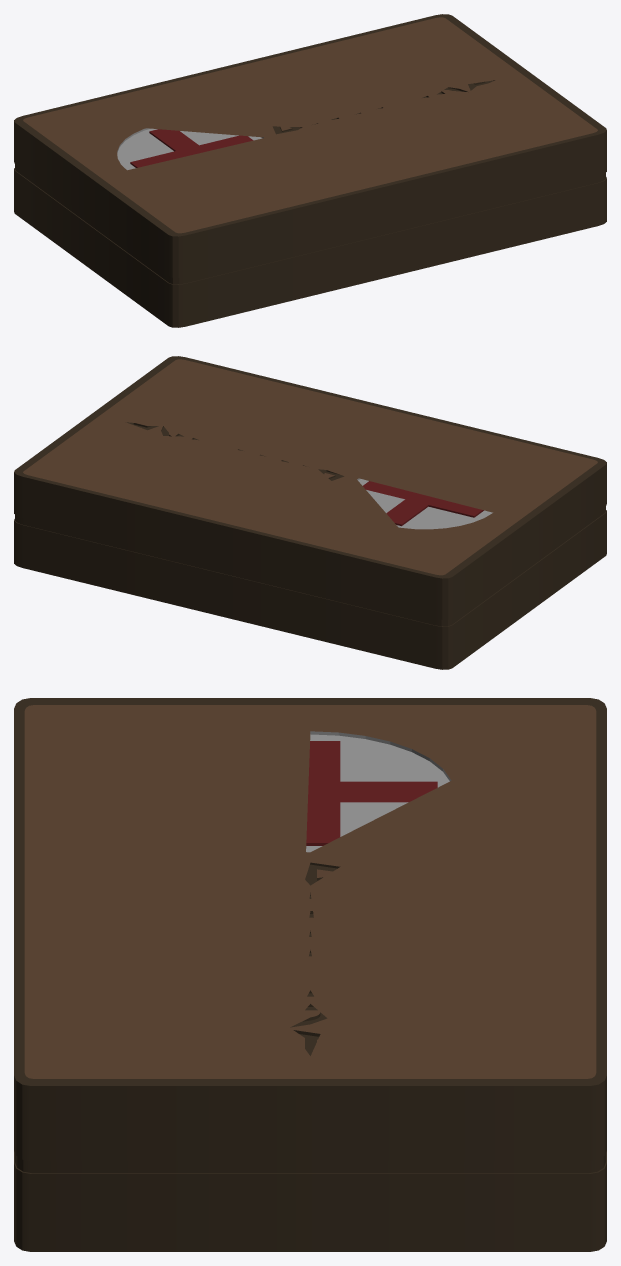
The model's file is Aptechhka_Big.fbx.
3 views of the same model, one above another, from view 1: azimuth 30°, elevation 25°; view 2: azimuth 150°, elevation 25°; view 3: azimuth 270°, elevation 25° (orthographic). The views are drawn at different scales.
Parts seen in each view (by area): view 1: Cube.001, Cube.002; view 2: Cube.001, Cube.002; view 3: Cube.001, Cube.002.
Part boxes in pixels (x1=…): Cube.001: x1=14, y1=14, x2=606, y2=327; Cube.002: x1=130, y1=129, x2=253, y2=167; Cube.001: x1=14, y1=356, x2=606, y2=669; Cube.002: x1=363, y1=481, x2=483, y2=526; Cube.001: x1=14, y1=698, x2=606, y2=1251; Cube.002: x1=306, y1=741, x2=437, y2=845.
Size of the model in its own units: 467 by 93.2 by 302.
